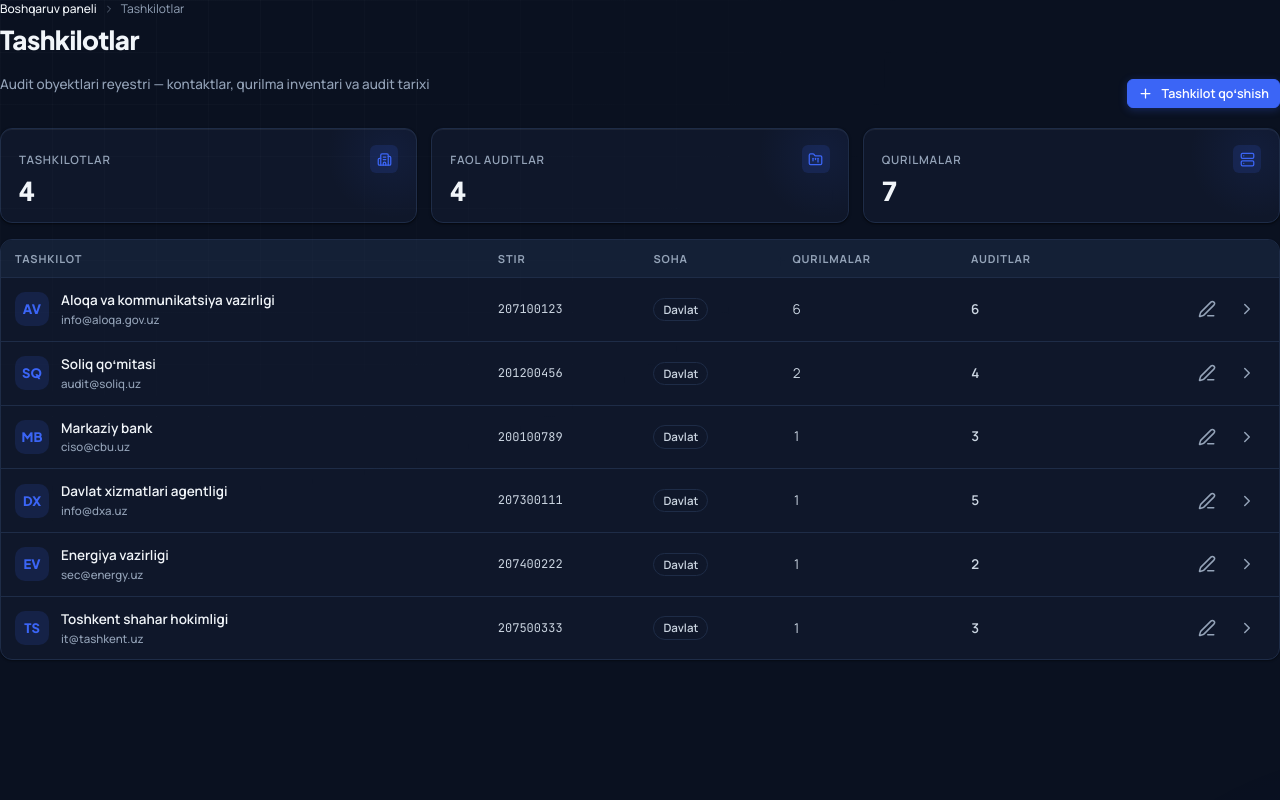
Test: OrgsScreen › opens the create organization dialog
Click the button "Tashkilot qoʻshish" at (1204, 94), box [1128,79,1279,108]
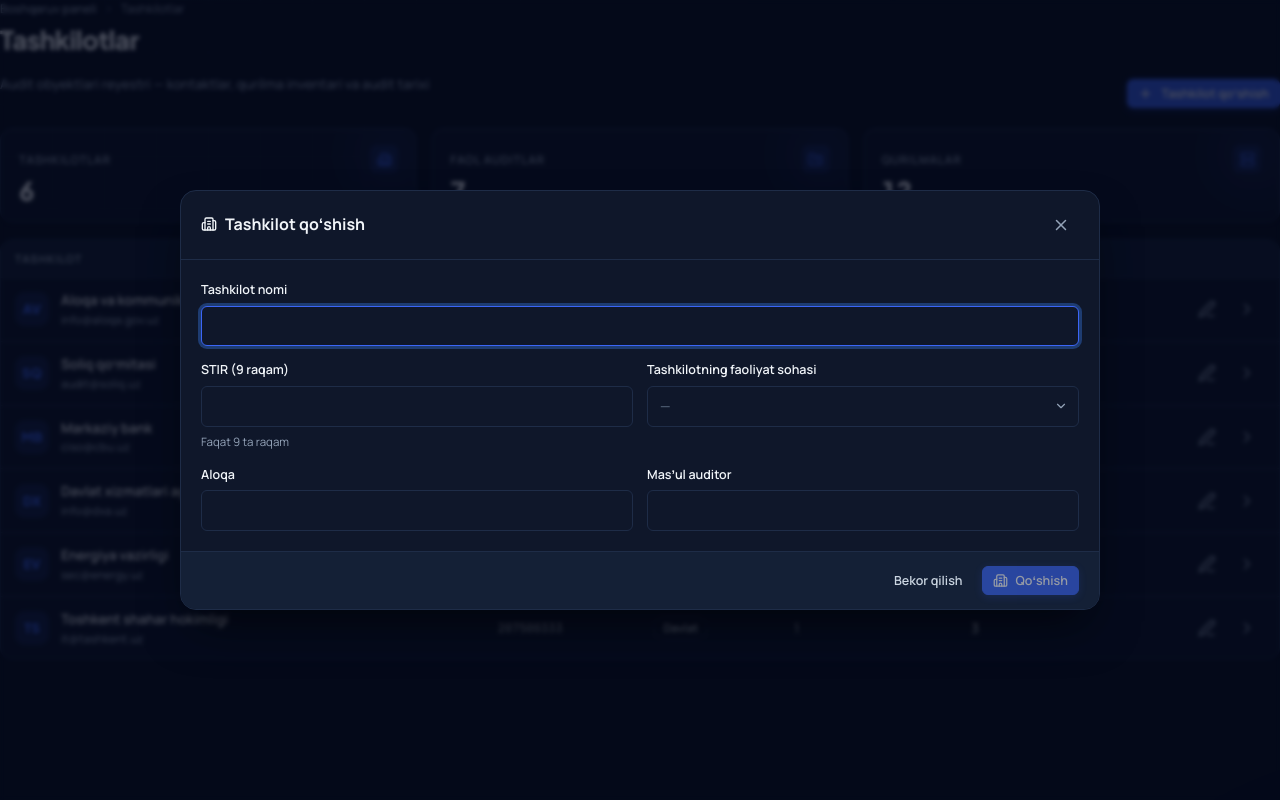
Result: the dialog is shown at [180,190,1100,610]
Result: the button "Qoʻshish" is disabled at [982,566,1079,595]
